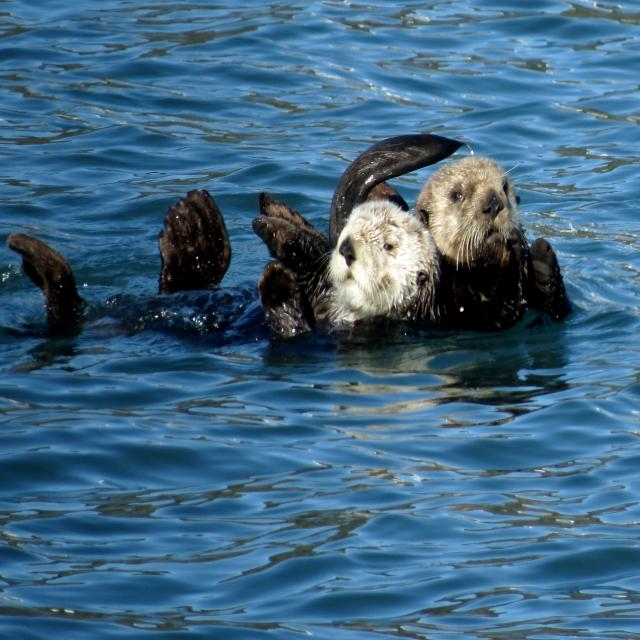otter: (340, 133, 560, 296), (262, 205, 438, 329)
